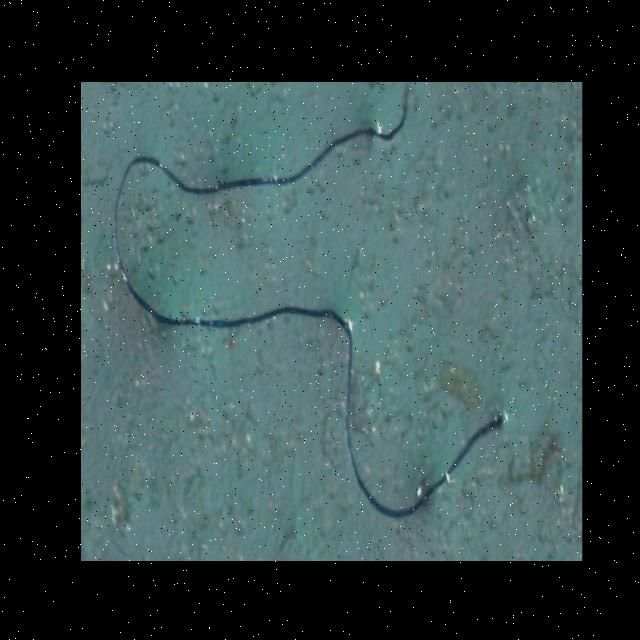Fibre: (113, 82, 504, 520)
